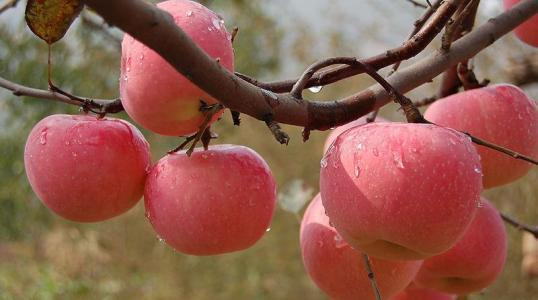apple: (320, 118, 482, 255), (142, 141, 275, 256), (121, 1, 234, 135), (23, 113, 153, 221), (421, 80, 535, 189)
